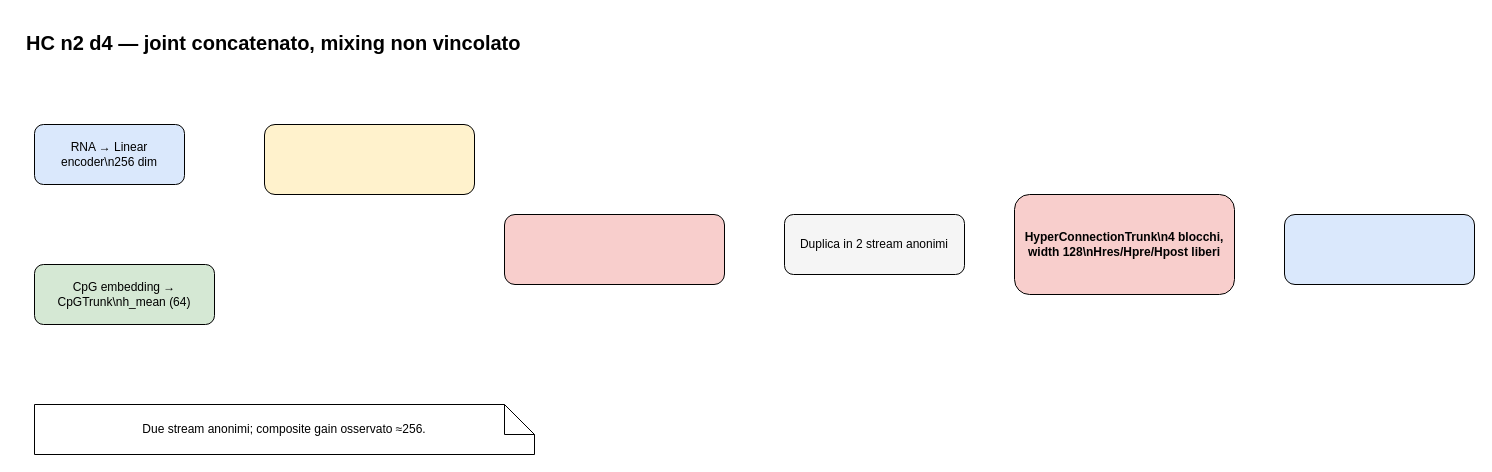
The diagram is 1492 pixels wide and 472 high, and some of its shapes have lost their labels. Here are the shapes that lost their labels. From the top down, the centre of each, then its label:
pixel 369 159: RNA × CpG + concat\nRaw branch → h_raw (128)
pixel 614 249: Concat [h_mean,h_raw]\n192 → LayerNorm + Linear → 128
pixel 1379 249: Mean stream + LayerNorm\nLinear → sigmoid → β
